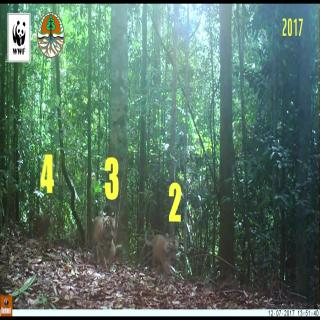Tiger: (140, 215, 181, 282), (90, 208, 118, 283)
